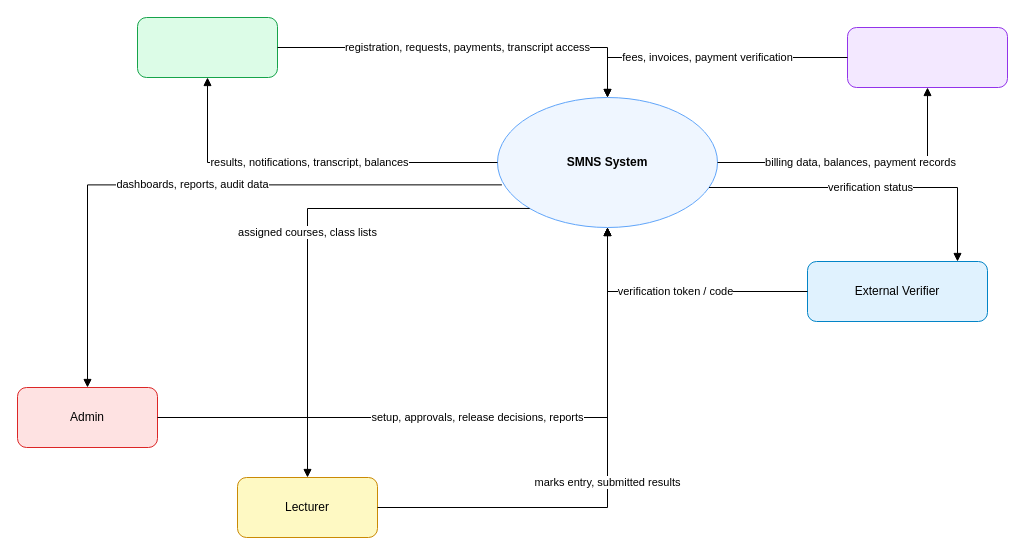
Image size: 1025x555. Some labels were removed from this diagram. Here are the shapes that lost their labels. From the top down, the centre of each, then its label:
the point at 207,47: Student
the point at 927,57: Finance Staff
